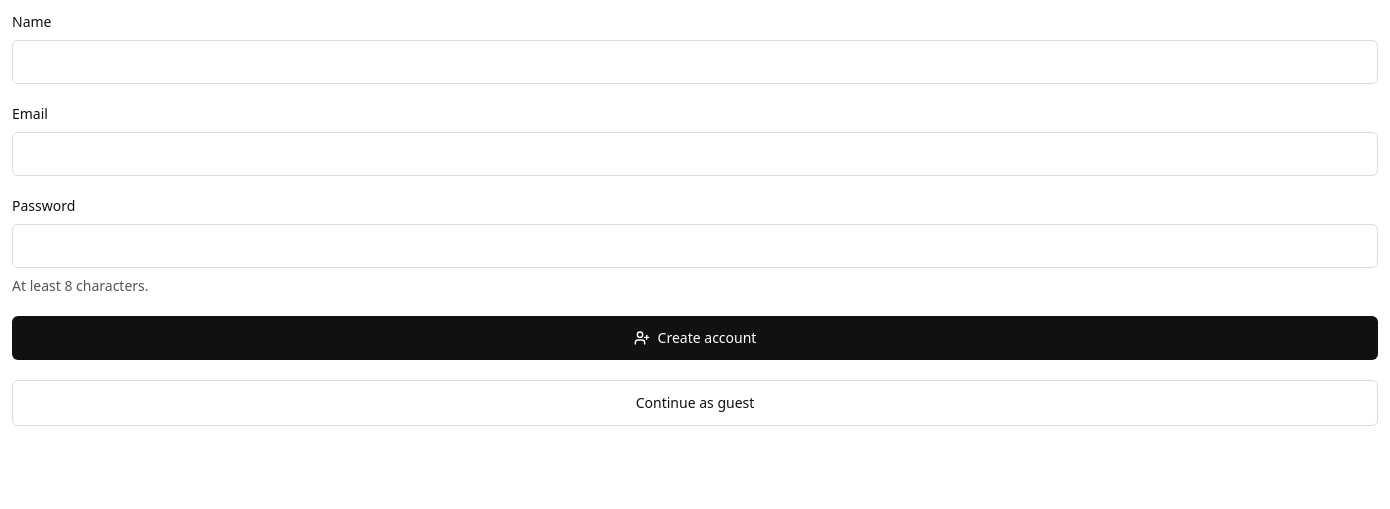
Test case: SignupForm › explains a duplicate email and links to log in
This screenshot has width=1390, height=509.
Type "Alice" into the field labelled "Name" at (695, 62), box left=12, top=40, right=1378, bottom=84
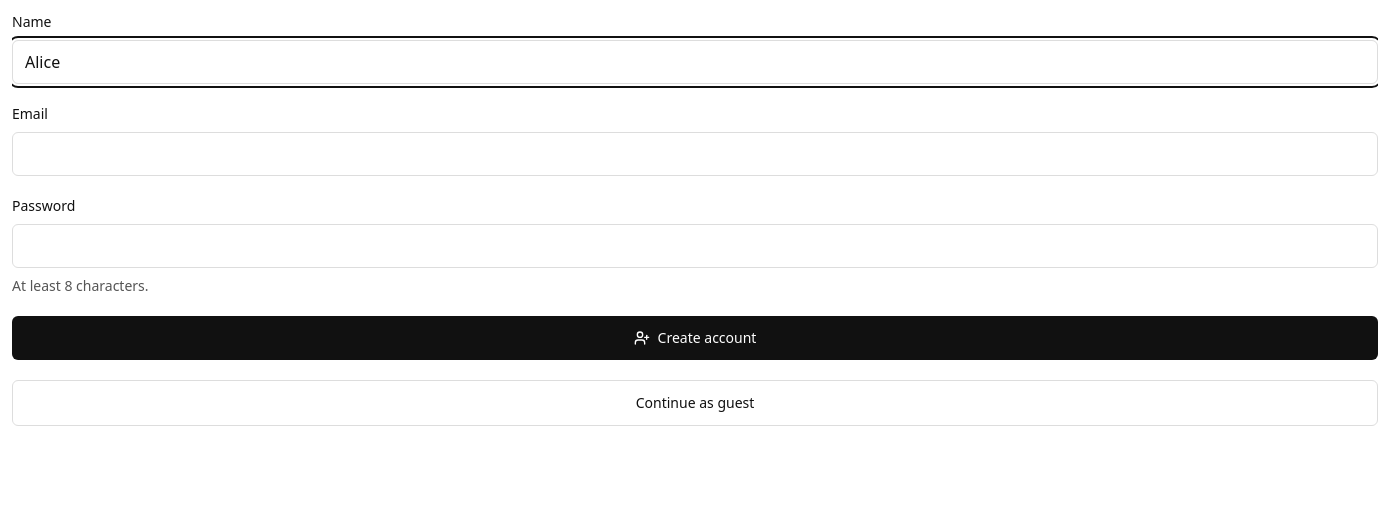
Type "alice@example.com" into the field labelled "Email" at (695, 154), box left=12, top=132, right=1378, bottom=176
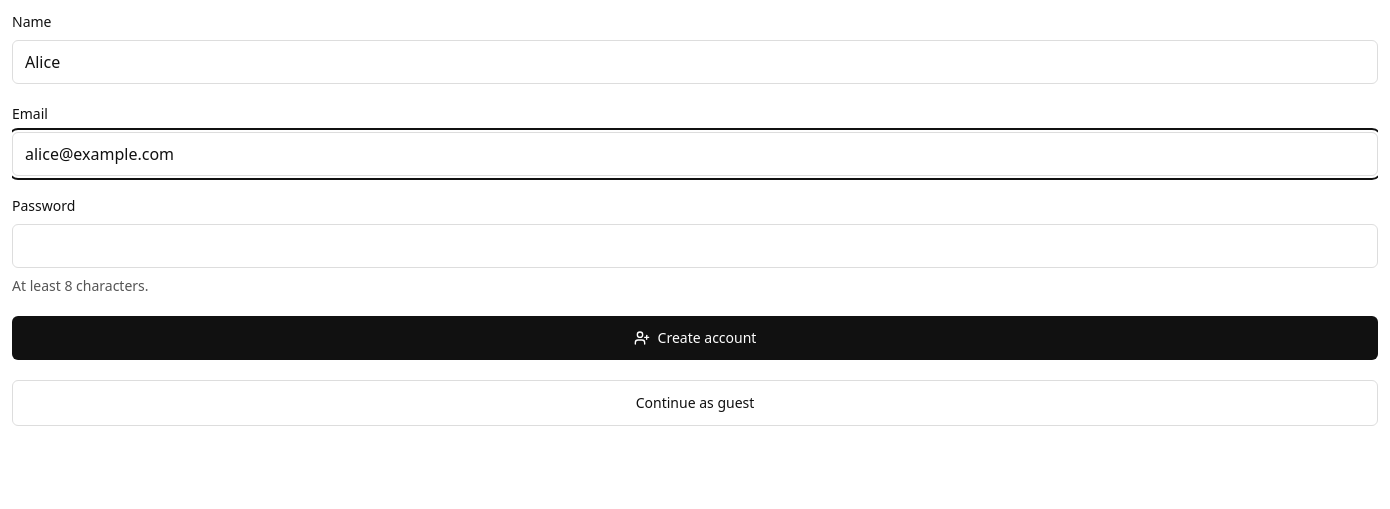
Type "correct horse" into the password field labelled "Password" at (695, 246), box left=12, top=224, right=1378, bottom=268
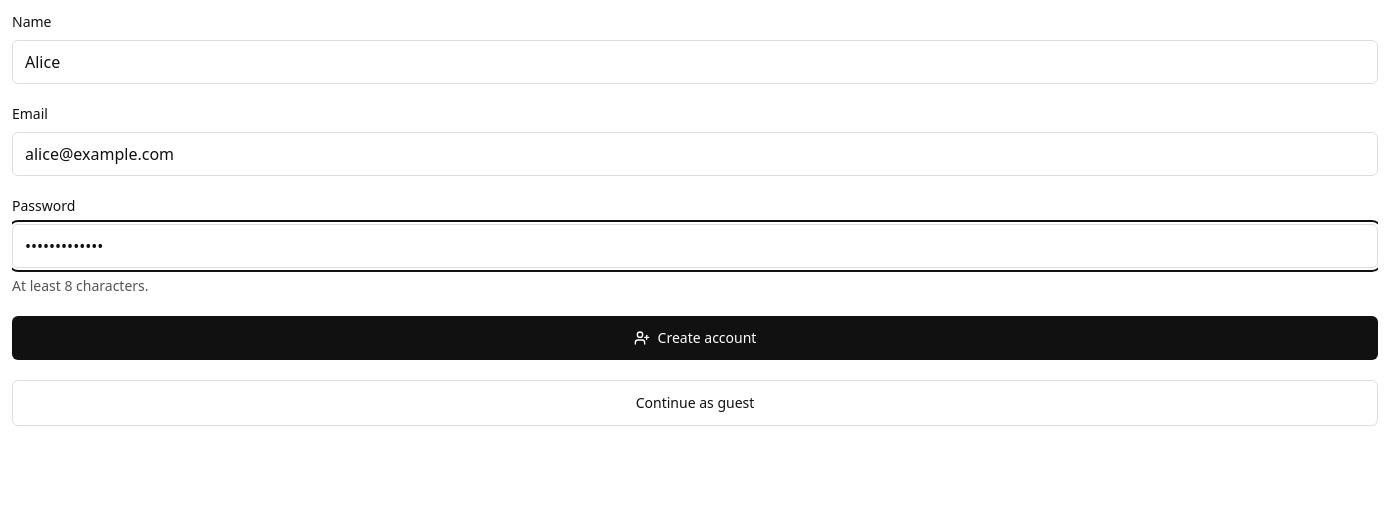
Click the button "Create account" at (695, 338), box left=12, top=316, right=1378, bottom=360
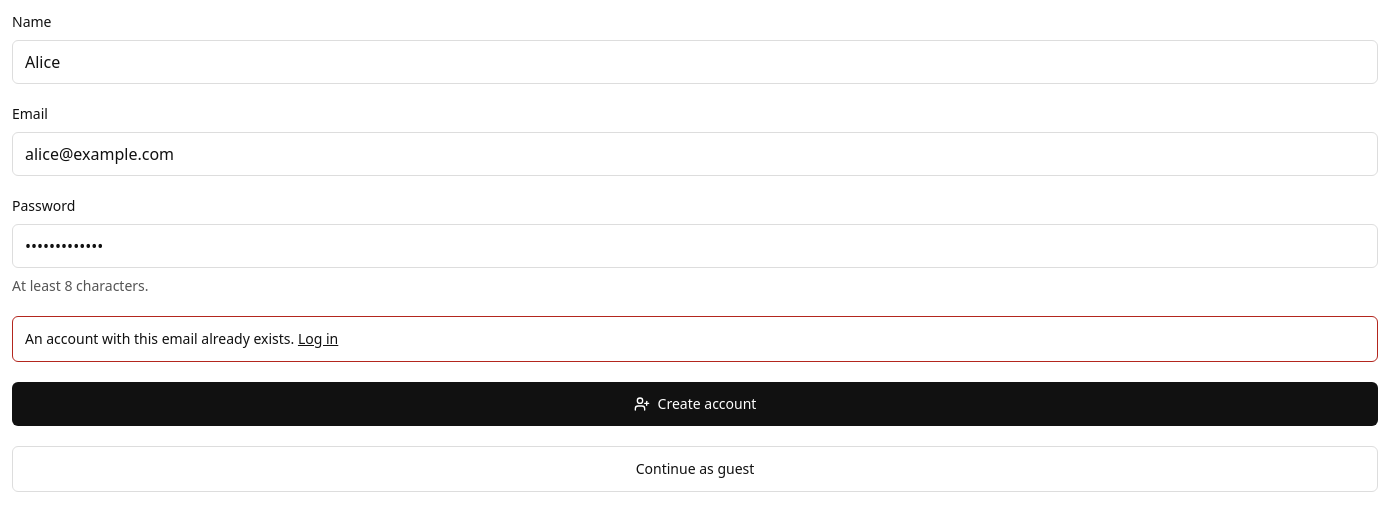
Expected: the message shows "An account with this email already exists", left=25, top=329, right=290, bottom=348
